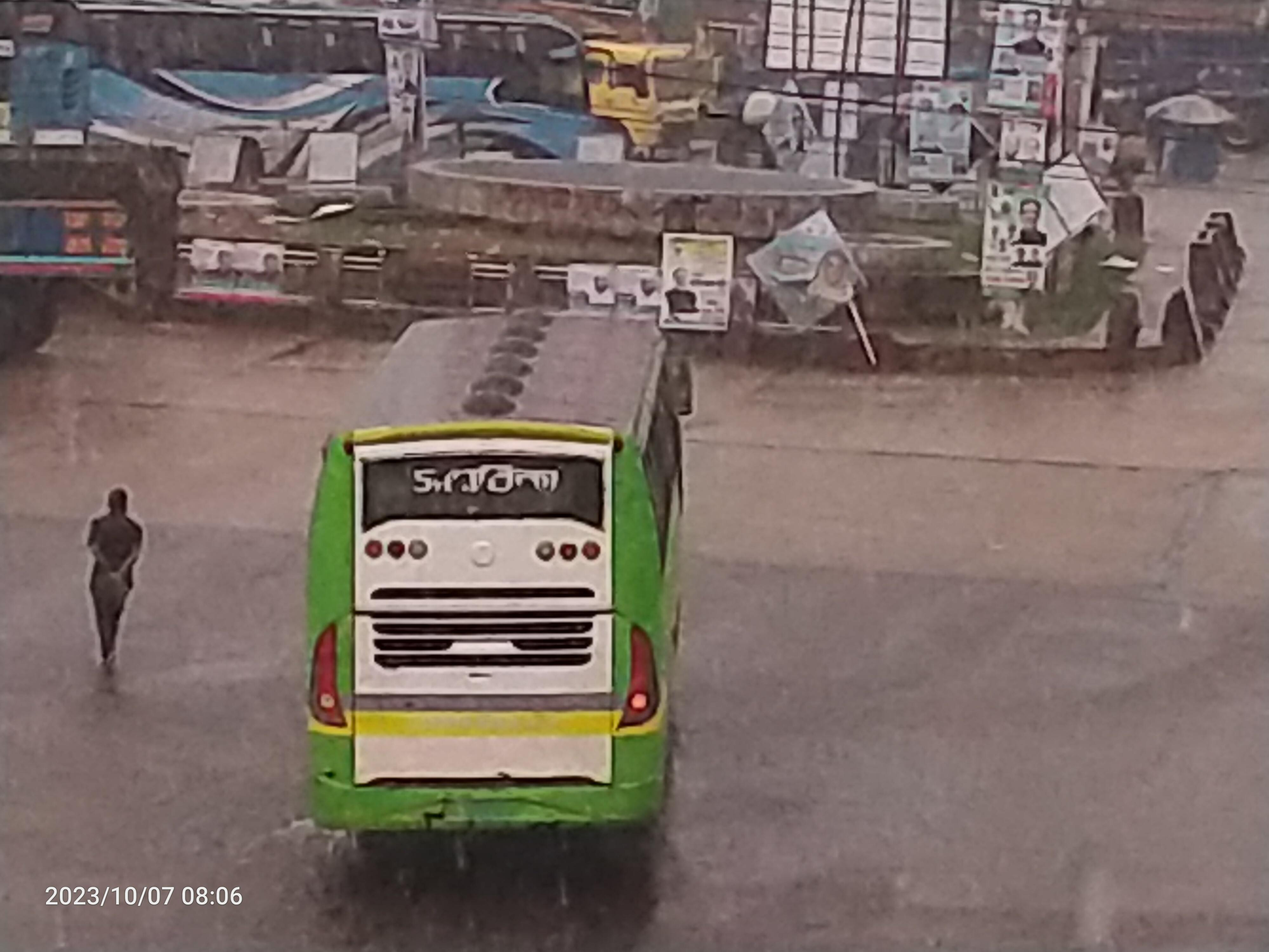Bus: (266, 257, 748, 875), (0, 0, 597, 168)
Truck: (0, 92, 219, 388), (579, 0, 720, 169)
